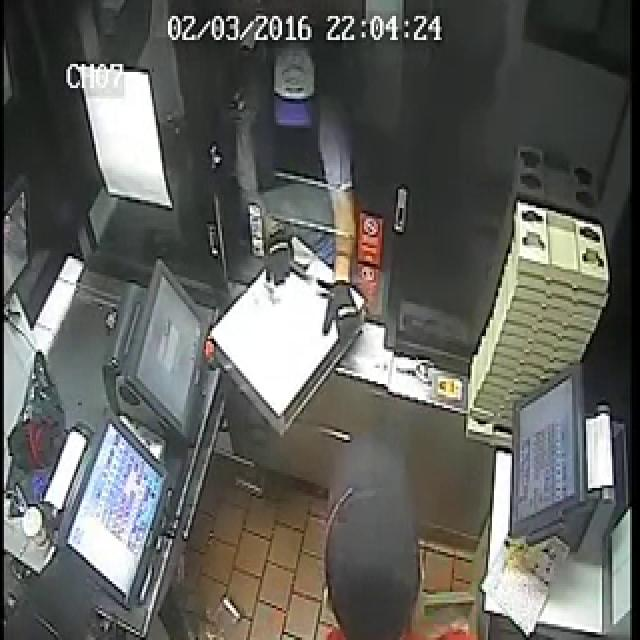burglary: (162, 14, 414, 547)
